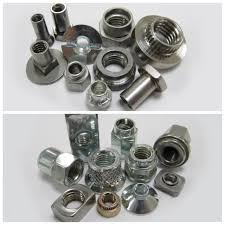Thread: (147, 18, 184, 48), (102, 9, 135, 31), (61, 186, 86, 212), (28, 38, 50, 58), (94, 151, 117, 170), (131, 145, 153, 161), (28, 12, 45, 24)
